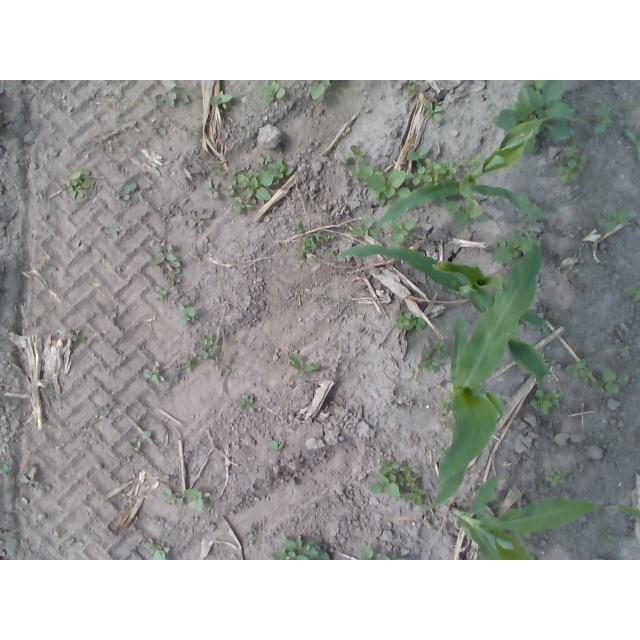Maize: (415, 243, 541, 514), (336, 245, 548, 383), (371, 114, 585, 237), (450, 473, 640, 560)
Weeds: (491, 80, 575, 153), (224, 155, 294, 214), (367, 458, 426, 506), (356, 161, 412, 208), (407, 145, 461, 188), (493, 233, 538, 265), (271, 537, 331, 560), (555, 144, 587, 184), (442, 200, 484, 230), (417, 341, 452, 375), (592, 368, 629, 397), (152, 242, 181, 276), (66, 168, 97, 198), (336, 144, 364, 177), (598, 207, 632, 233), (287, 354, 317, 383), (528, 388, 561, 414), (154, 84, 189, 108), (394, 308, 426, 332), (564, 356, 592, 382), (183, 208, 213, 232), (389, 218, 415, 245), (360, 546, 409, 560), (141, 538, 170, 560), (125, 430, 151, 454), (259, 81, 286, 104), (592, 105, 612, 136), (624, 127, 640, 164), (297, 234, 319, 259), (142, 361, 165, 384), (196, 335, 216, 361), (544, 465, 566, 487), (423, 100, 444, 123), (184, 488, 204, 512), (209, 91, 234, 110), (309, 80, 332, 100), (351, 217, 374, 237), (462, 151, 482, 174), (58, 329, 87, 344), (116, 180, 136, 200), (164, 487, 185, 506), (177, 304, 196, 325), (17, 466, 36, 486), (153, 116, 171, 137), (599, 530, 618, 549), (201, 179, 220, 197), (622, 285, 640, 304), (436, 398, 453, 414), (236, 394, 254, 408), (153, 285, 167, 300), (405, 83, 420, 96), (514, 529, 533, 539), (268, 440, 285, 451), (0, 461, 12, 476), (203, 238, 213, 254), (434, 448, 446, 461), (523, 216, 537, 227), (293, 222, 305, 234), (184, 359, 193, 374), (616, 342, 629, 352), (214, 169, 224, 179), (326, 248, 335, 259), (446, 423, 455, 434), (322, 232, 334, 240), (585, 347, 596, 353), (366, 80, 374, 88), (369, 229, 378, 236), (319, 294, 328, 300), (474, 482, 483, 487), (381, 80, 389, 84)
